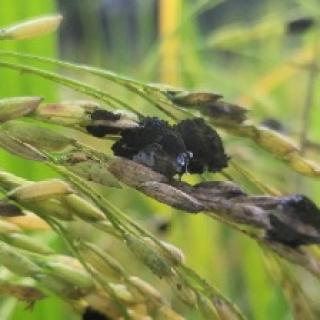Gosong-Palsu: (113, 117, 191, 176), (256, 196, 319, 246), (173, 117, 229, 171)
